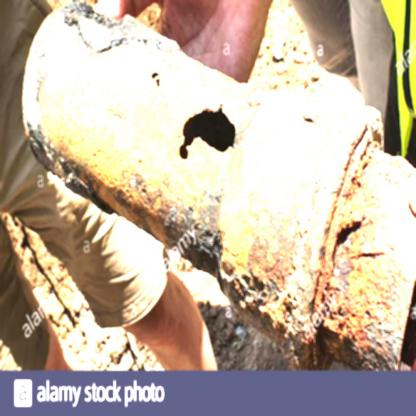burst: (147, 110, 268, 167)
